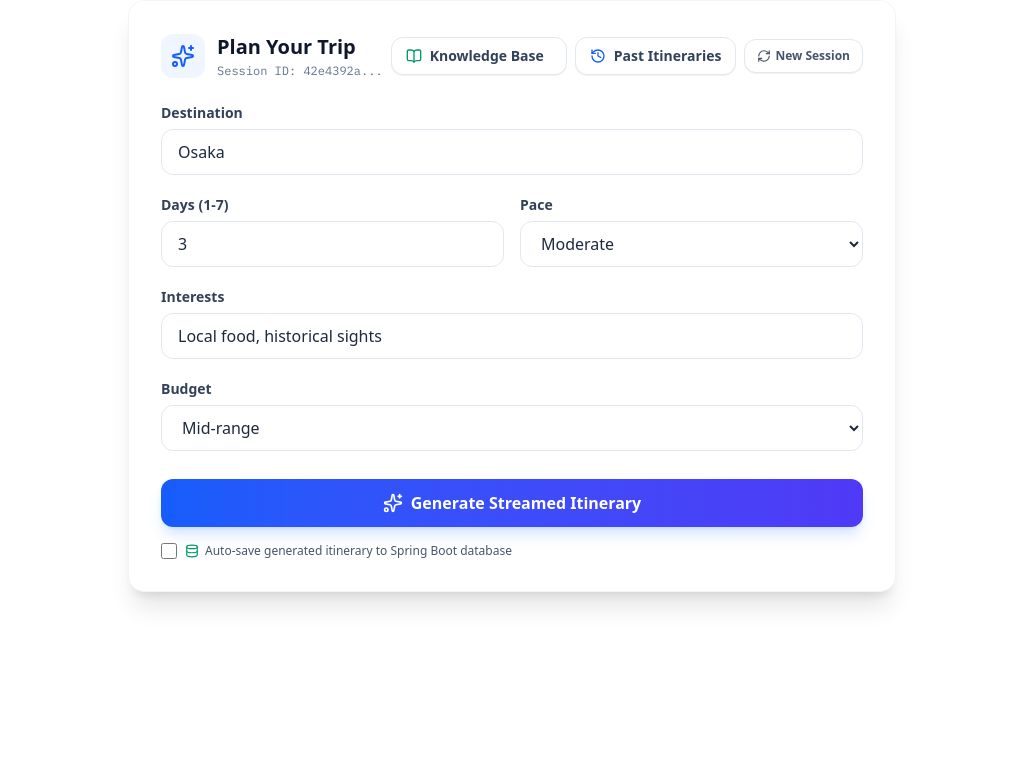
Test case: ItineraryForm Component › Form Submission (handleSubmit) & SSE Streaming › handles server HTTP error response during form submit
The width and height of the screenshot is (1024, 768).
Click the button "Generate Streamed Itinerary".
click(512, 503)  # box x1=161 y1=479 x2=863 y2=527
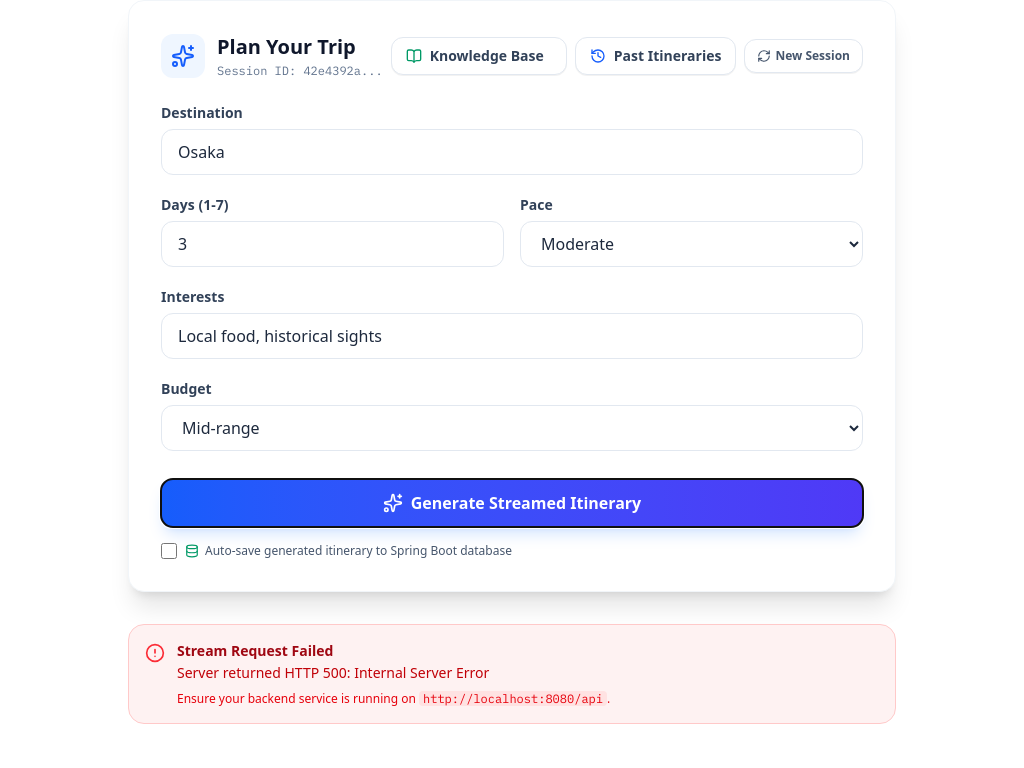
Check: the text "Server returned HTTP 500: Internal Server Error" is shown, box x1=177 y1=663 x2=489 y2=682
